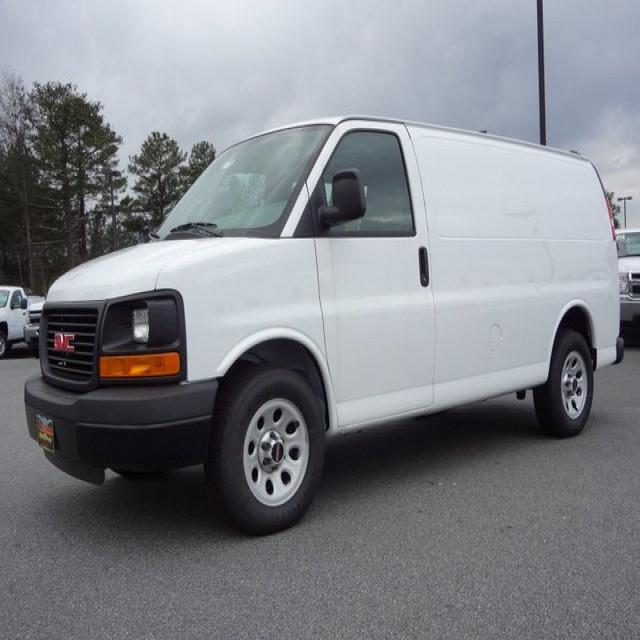car: (23, 114, 625, 534), (614, 230, 639, 350), (1, 286, 31, 356), (26, 299, 45, 360)
